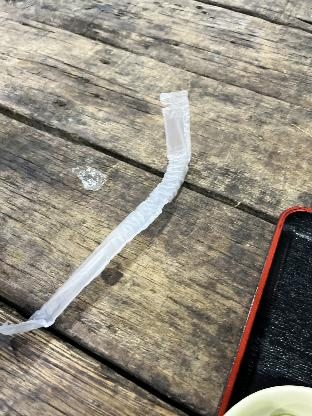Others: (0, 78, 202, 340)
